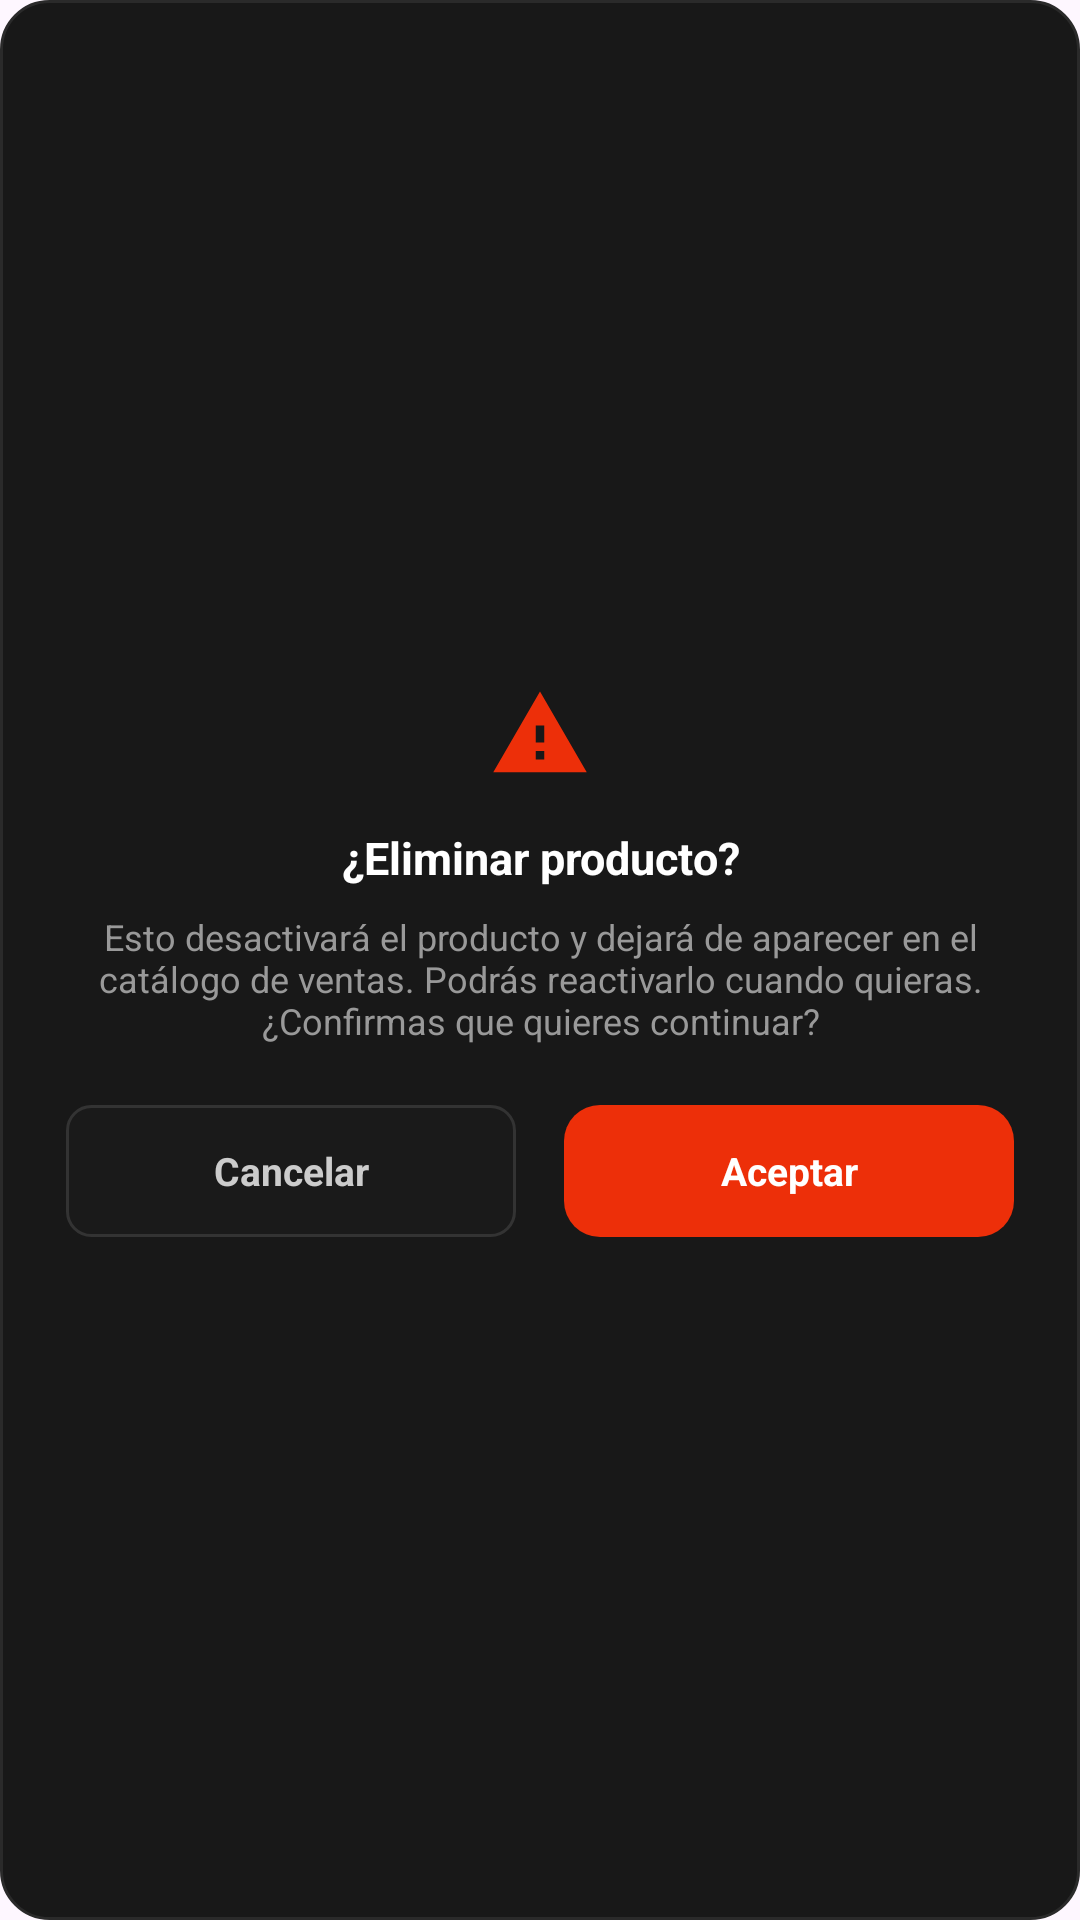

Point at icon controls on the screen. Image size 1080*1920, points as point (x, y).
warning: point (540, 732)
